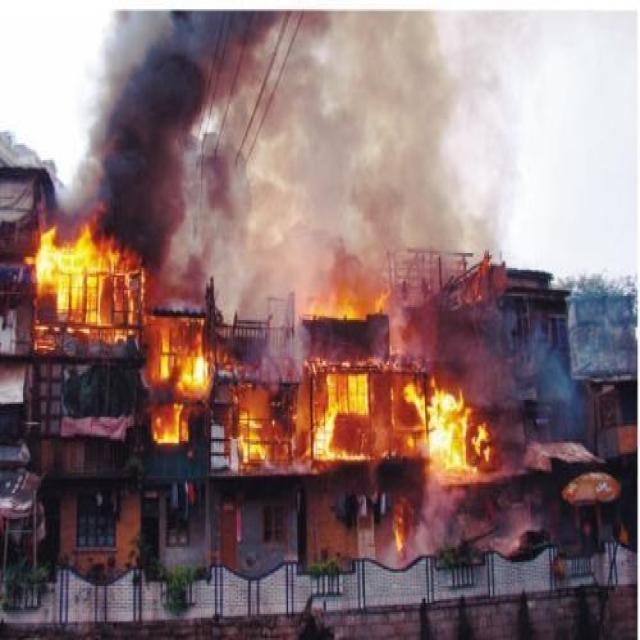Fire: (34, 232, 142, 344), (148, 328, 222, 448), (402, 380, 498, 472), (312, 369, 375, 461), (294, 288, 390, 334), (228, 405, 270, 468)
Smoke: (170, 15, 539, 307), (106, 9, 276, 258), (520, 326, 586, 440), (411, 476, 465, 556)
